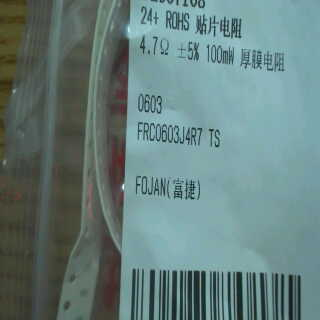4.7R: (138, 32, 173, 59)
